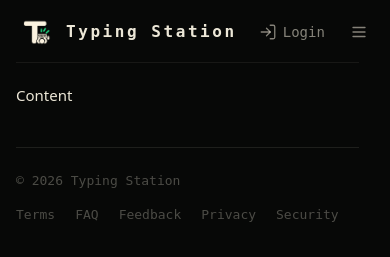
AppShell account dropdown › uses one five-item icon navigation contract in the full row and compact sheet
Click the button named "Open navigation".
click(359, 32)  # box [343,16,375,48]
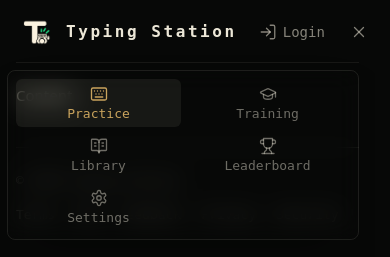
Result: the text "Practice" is shown at [67,106,130,122]
Result: the text "Training" is shown at [236,106,299,122]
Result: the text "Library" is shown at [71,158,126,174]
